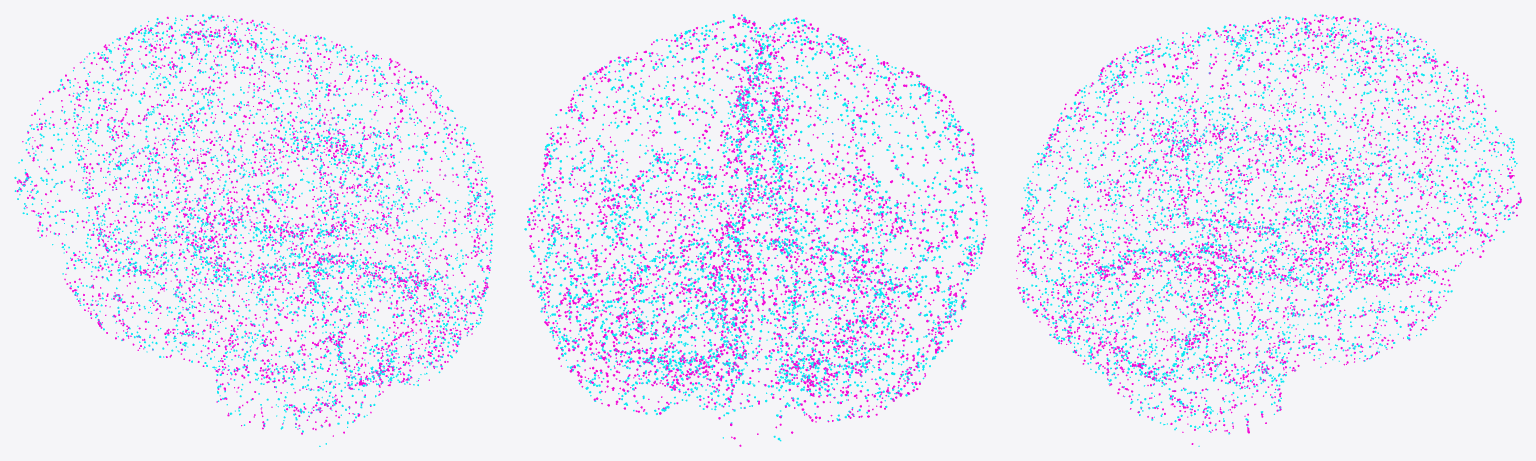
The model's file is brain-transformed.glb.
3 views of the same model, side by side, from view 1: azimuth 30°, elevation 25°; view 2: azimuth 150°, elevation 25°; view 3: azimuth 270°, elevation 25° (orthographic). The views are drawn at different scales.
Visible parts, largest first — view 1: Icosphere.001; view 2: Icosphere.001; view 3: Icosphere.001.
Boxes of the visible parts, <box> form: Icosphere.001: <box>14,14,495,446</box>; Icosphere.001: <box>524,14,987,446</box>; Icosphere.001: <box>1016,14,1521,446</box>.
Size of the model in its own units: 1.09 by 1.1 by 1.3.
